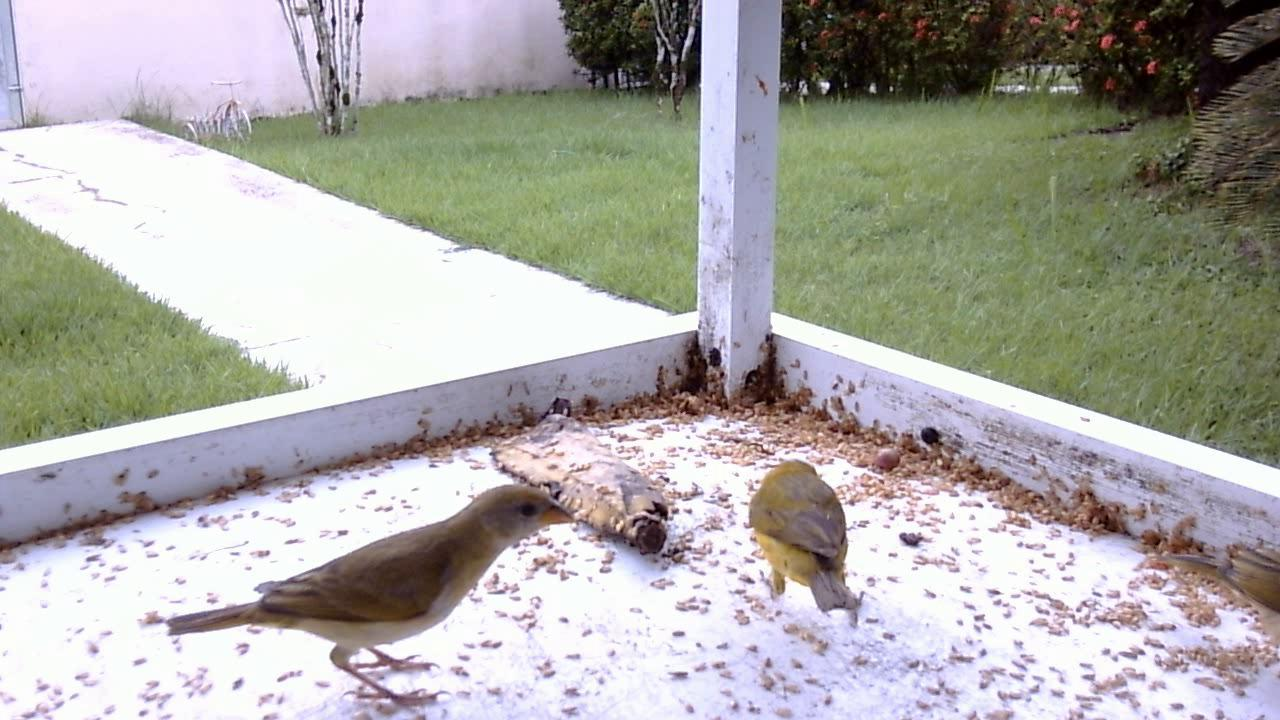canario_do_amazonas: (148, 474, 569, 710), (739, 456, 868, 622), (1171, 541, 1280, 660)
